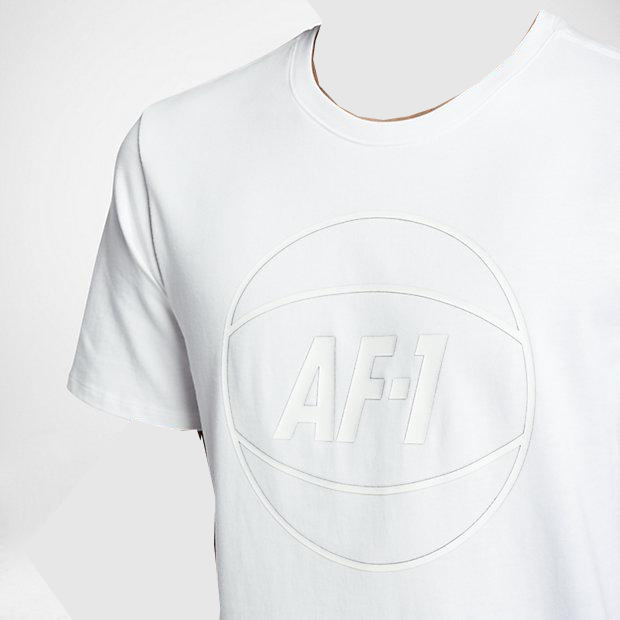teeshirt: (60, 8, 618, 620)
